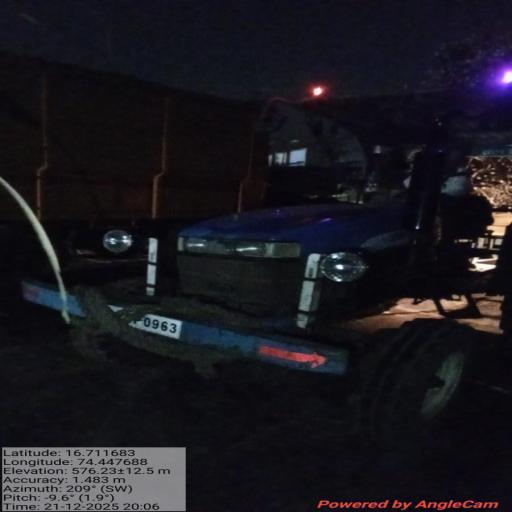number_plate: (93, 299, 198, 342)
